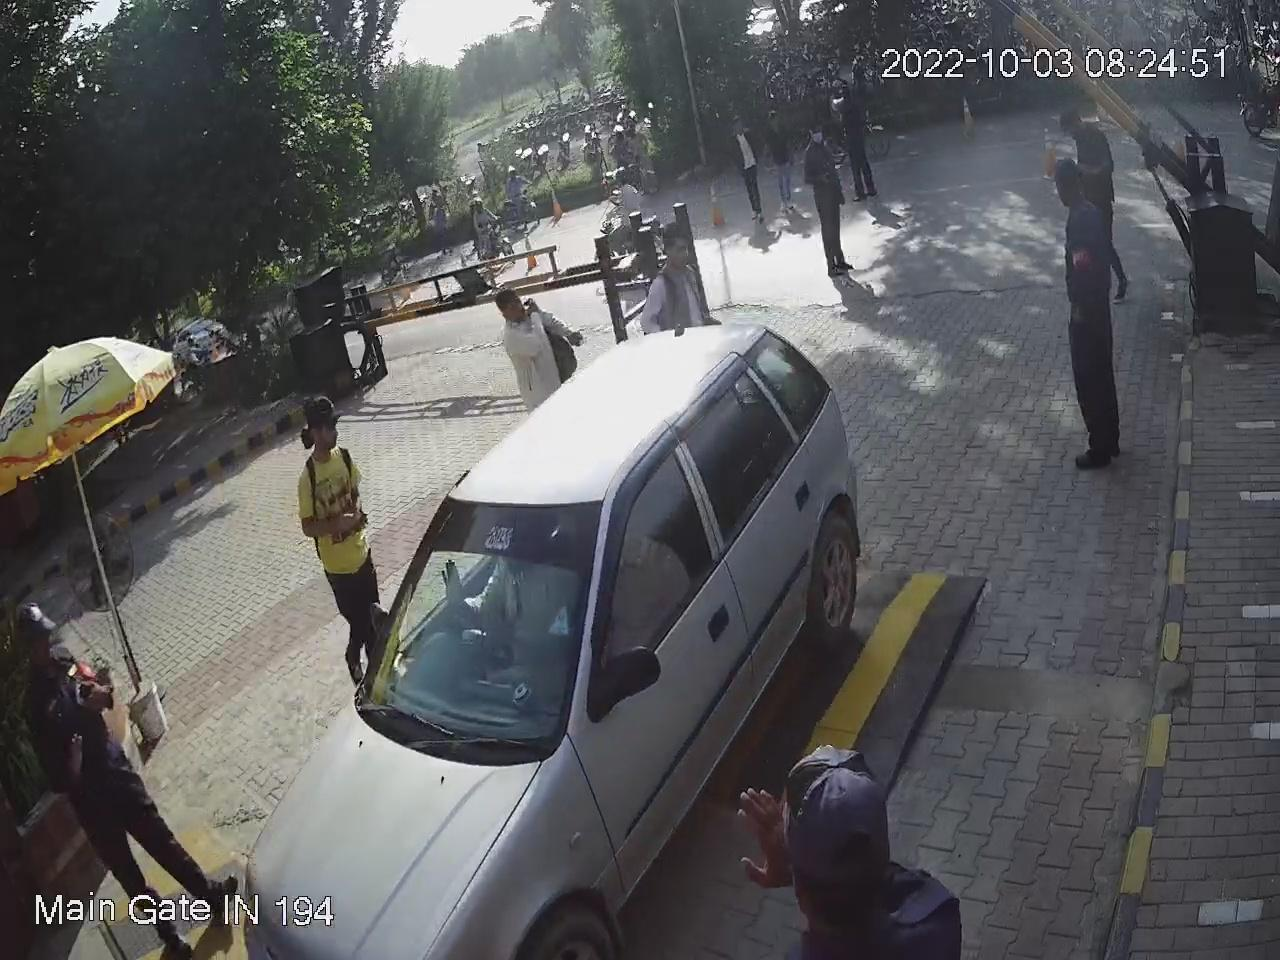windshield: (356, 497, 603, 767)
